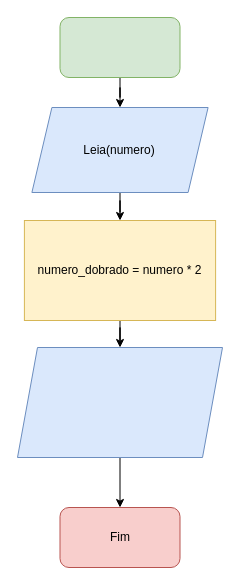
Some shapes in this 240 by 585 pixel diagram are drawn without their labels. The centre of each missing label's shape, as x and y in pixels:
"Escreva(numero_dobrado)" goes at [119,402].
"Inicio" goes at [119,47].
